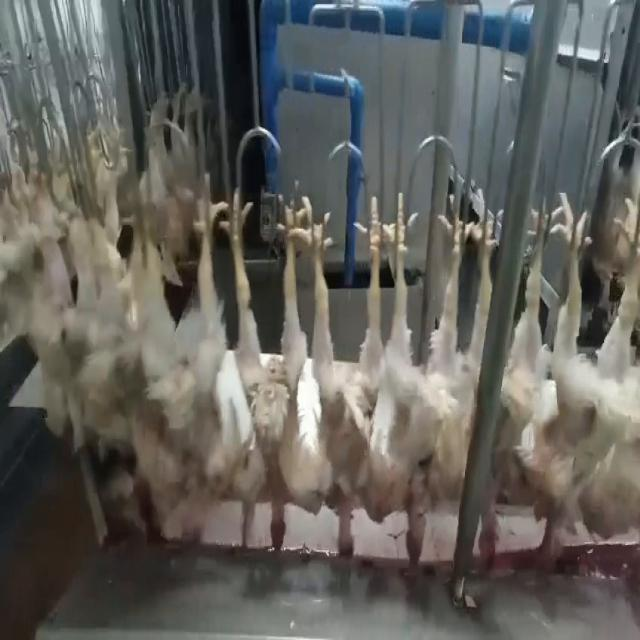chicken: (359, 192, 474, 580), (534, 176, 639, 568), (475, 180, 566, 576), (300, 178, 388, 572), (139, 169, 222, 541), (229, 186, 310, 553)
